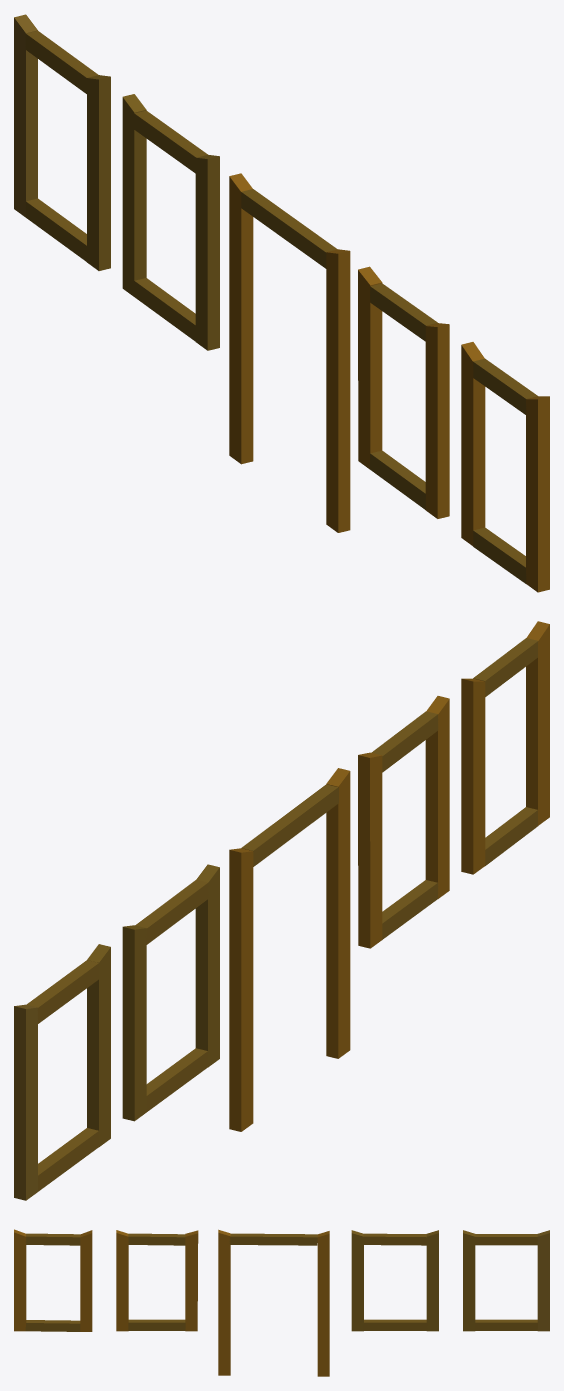
File: enfeite_janela2.obj
The picture shows the model from 3 angles, top to bottom: view 1: azimuth 30°, elevation 25°; view 2: azimuth 150°, elevation 25°; view 3: azimuth 270°, elevation 25°; orthographic projection. The views are drawn at different scales.
Visible parts, largest first — view 1: Cubo.017_Cubo.021, Cubo.019_Cubo.023, Cubo.008_Cubo.011, Cubo_Cubo.003, Cubo.001_Cubo.004, Cubo.009_Cubo.012, Cubo.002_Cubo.005, Cubo.007_Cubo.010, Cubo.003_Cubo.006, Cubo.006_Cubo.009, Cubo.018_Cubo.022, Cubo.013_Cubo.017 (+7 smaller); view 2: Cubo.019_Cubo.023, Cubo.017_Cubo.021, Cubo.002_Cubo.005, Cubo.003_Cubo.006, Cubo.007_Cubo.010, Cubo.006_Cubo.009, Cubo_Cubo.003, Cubo.008_Cubo.011, Cubo.001_Cubo.004, Cubo.009_Cubo.012, Cubo.018_Cubo.022, Cubo.013_Cubo.017 (+7 smaller); view 3: Cubo.019_Cubo.023, Cubo.017_Cubo.021, Cubo.003_Cubo.006, Cubo_Cubo.003, Cubo.008_Cubo.011, Cubo.009_Cubo.012, Cubo.002_Cubo.005, Cubo.001_Cubo.004, Cubo.007_Cubo.010, Cubo.006_Cubo.009, Cubo.018_Cubo.022, Cubo.013_Cubo.017 (+7 smaller).
Boxes of the visible parts, x1,y1,x2,y2 form: Cubo.017_Cubo.021: (326, 249, 350, 532); Cubo.019_Cubo.023: (229, 173, 253, 464); Cubo.008_Cubo.011: (195, 155, 219, 350); Cubo_Cubo.003: (425, 323, 449, 518); Cubo.001_Cubo.004: (526, 396, 549, 592); Cubo.009_Cubo.012: (87, 75, 110, 270); Cubo.002_Cubo.005: (461, 342, 485, 546); Cubo.007_Cubo.010: (122, 94, 146, 296); Cubo.003_Cubo.006: (358, 266, 382, 469); Cubo.006_Cubo.009: (14, 14, 37, 217); Cubo.018_Cubo.022: (241, 189, 337, 268); Cubo.013_Cubo.017: (134, 110, 207, 173); Cubo.019_Cubo.023: (229, 848, 253, 1131); Cubo.017_Cubo.021: (326, 768, 350, 1058); Cubo.002_Cubo.005: (461, 678, 485, 874); Cubo.003_Cubo.006: (358, 752, 382, 948); Cubo.007_Cubo.010: (122, 925, 146, 1121); Cubo.006_Cubo.009: (14, 1004, 37, 1200); Cubo_Cubo.003: (425, 696, 449, 898); Cubo.008_Cubo.011: (195, 864, 219, 1067); Cubo.001_Cubo.004: (526, 621, 549, 825); Cubo.009_Cubo.012: (87, 944, 110, 1146); Cubo.018_Cubo.022: (241, 784, 338, 866); Cubo.013_Cubo.017: (135, 879, 208, 945); Cubo.019_Cubo.023: (317, 1231, 329, 1376); Cubo.017_Cubo.021: (218, 1229, 230, 1375); Cubo.003_Cubo.006: (185, 1230, 198, 1331); Cubo_Cubo.003: (116, 1230, 128, 1331); Cubo.008_Cubo.011: (351, 1230, 363, 1331); Cubo.009_Cubo.012: (463, 1230, 475, 1331); Cubo.002_Cubo.005: (80, 1230, 92, 1331); Cubo.001_Cubo.004: (14, 1229, 26, 1331); Cubo.007_Cubo.010: (426, 1230, 438, 1331); Cubo.006_Cubo.009: (537, 1230, 549, 1331); Cubo.018_Cubo.022: (229, 1233, 317, 1245); Cubo.013_Cubo.017: (363, 1233, 428, 1245).
Size of the model in its own units: 0.1238 by 2.76 by 9.3.
